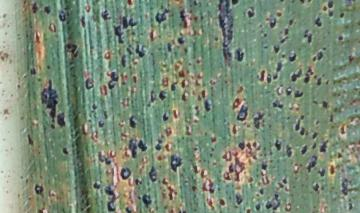tarspot: (217, 1, 233, 66), (221, 149, 247, 185), (39, 78, 59, 123), (103, 184, 119, 212), (244, 139, 261, 161), (251, 110, 267, 131), (168, 153, 183, 175), (265, 193, 282, 212), (153, 8, 171, 25), (106, 70, 120, 90), (112, 23, 125, 44), (64, 41, 80, 58), (96, 150, 113, 166), (311, 46, 327, 62), (236, 104, 249, 123), (306, 154, 318, 174), (127, 136, 137, 159), (179, 7, 189, 29), (302, 67, 314, 85), (273, 61, 283, 82), (33, 183, 46, 199), (290, 67, 303, 83), (302, 28, 314, 45), (166, 185, 178, 202), (234, 47, 246, 63), (231, 97, 247, 109), (119, 166, 132, 180), (83, 76, 96, 90), (141, 193, 153, 208), (56, 111, 67, 127), (148, 164, 157, 183), (58, 8, 68, 25), (340, 178, 350, 195), (100, 9, 112, 23), (134, 43, 145, 58), (319, 138, 330, 153), (36, 200, 48, 213), (137, 139, 148, 153), (284, 143, 293, 160), (128, 114, 138, 129), (26, 132, 35, 148), (157, 89, 169, 101), (272, 98, 283, 111), (154, 138, 164, 152), (203, 98, 212, 113), (273, 137, 282, 152), (313, 15, 323, 28), (338, 122, 347, 136), (180, 89, 189, 103), (148, 29, 157, 43), (128, 17, 139, 28), (293, 89, 304, 100), (235, 85, 246, 96), (79, 14, 87, 29), (246, 7, 256, 19), (121, 15, 129, 30), (268, 17, 278, 29), (120, 54, 128, 69), (294, 117, 302, 132), (233, 193, 243, 205), (163, 125, 173, 137), (101, 109, 110, 122), (33, 30, 42, 43), (31, 1, 39, 15), (231, 123, 239, 137), (183, 123, 191, 137), (149, 89, 157, 103), (315, 168, 326, 178), (287, 51, 296, 63), (311, 181, 320, 193), (133, 177, 145, 186), (272, 43, 281, 55), (285, 85, 294, 97), (170, 80, 179, 92), (258, 68, 265, 83), (278, 36, 291, 44), (328, 164, 336, 177), (42, 5, 52, 15), (124, 46, 134, 56), (163, 142, 172, 153), (275, 181, 284, 192), (300, 143, 307, 156), (61, 146, 70, 156), (161, 177, 170, 187), (170, 109, 179, 119), (102, 49, 111, 59), (209, 134, 218, 144), (195, 71, 204, 81), (29, 66, 37, 77), (161, 111, 169, 122), (93, 180, 101, 191), (315, 75, 323, 86), (191, 163, 199, 174), (166, 41, 173, 53), (321, 99, 328, 111), (311, 130, 318, 142), (131, 73, 138, 85), (328, 111, 334, 125), (336, 34, 345, 43), (287, 18, 296, 27), (335, 151, 344, 160), (218, 198, 227, 207), (310, 141, 318, 151), (260, 161, 268, 171), (90, 101, 98, 111), (176, 69, 184, 79), (257, 186, 265, 196), (327, 10, 335, 19), (266, 71, 272, 83), (124, 205, 133, 213), (321, 4, 329, 13), (254, 202, 262, 211), (191, 184, 199, 193), (177, 35, 184, 45), (97, 119, 104, 129), (347, 201, 354, 211), (347, 54, 354, 64), (180, 78, 187, 88), (193, 103, 200, 113), (238, 140, 244, 151), (299, 126, 305, 137), (327, 1, 335, 9), (275, 10, 283, 18), (283, 27, 290, 36), (200, 89, 207, 98), (195, 57, 202, 66), (156, 153, 162, 163), (281, 176, 289, 183), (208, 187, 215, 195), (199, 14, 206, 22), (324, 77, 331, 85), (192, 145, 199, 153), (194, 79, 201, 87), (183, 45, 188, 56), (299, 113, 305, 122), (213, 35, 220, 42), (313, 119, 320, 126), (311, 99, 318, 106), (339, 11, 345, 19), (45, 63, 51, 71), (244, 207, 252, 213), (192, 1, 200, 7), (192, 15, 198, 23), (186, 61, 193, 67), (209, 145, 216, 151), (262, 45, 270, 50), (208, 151, 213, 159), (50, 123, 56, 129), (177, 209, 186, 213), (262, 33, 269, 38), (126, 1, 132, 6), (231, 1, 238, 5), (305, 1, 312, 4), (299, 1, 305, 4), (347, 1, 356, 3), (278, 1, 286, 3)
